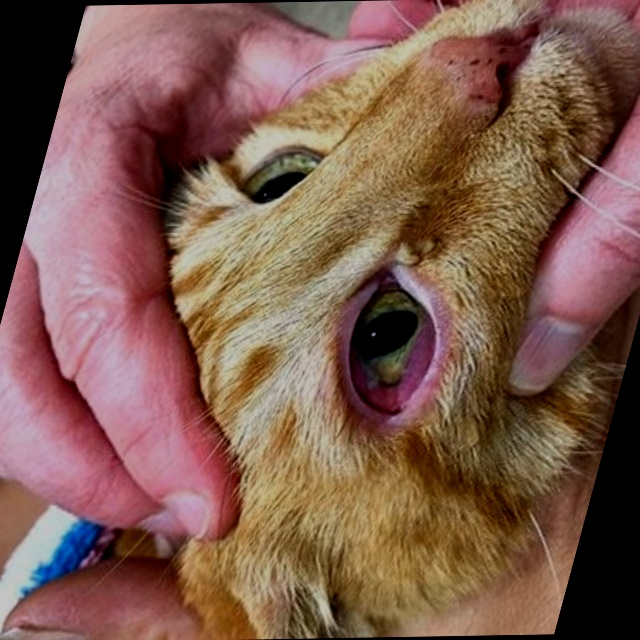eye_infection: (309, 271, 455, 427)
